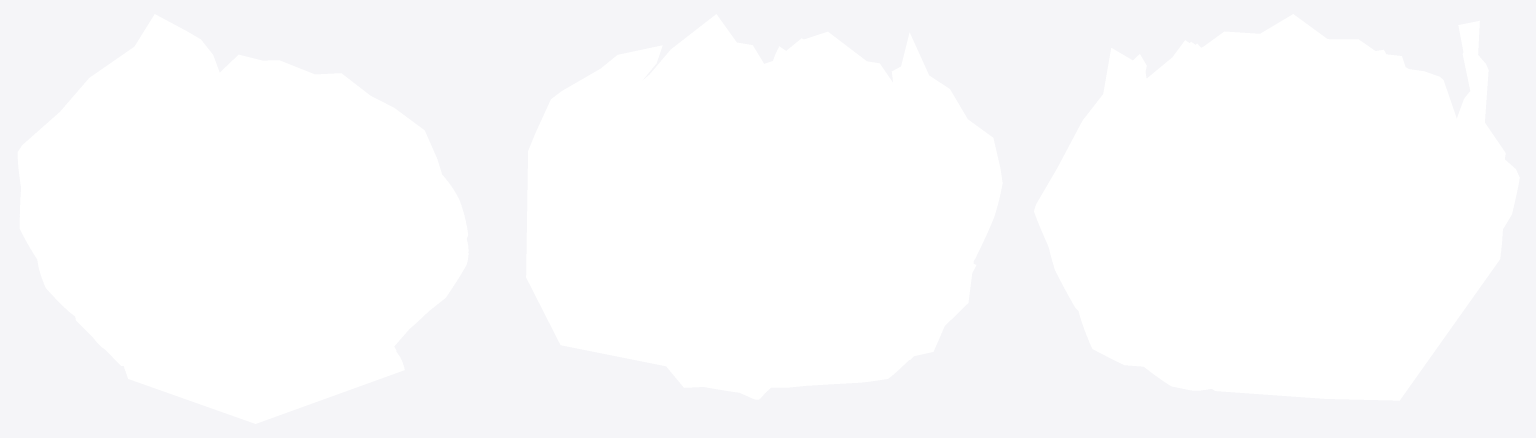
The picture shows the model from 3 angles, left to right: view 1: azimuth 30°, elevation 25°; view 2: azimuth 150°, elevation 25°; view 3: azimuth 270°, elevation 25°; orthographic projection. The views are drawn at different scales.
Parts seen in each view (by area): view 1: SM_Cabbage_01v3_LOD0; view 2: SM_Cabbage_01v3_LOD0; view 3: SM_Cabbage_01v3_LOD0.
Boxes of the visible parts, x1=… form: SM_Cabbage_01v3_LOD0: x1=17, y1=14, x2=468, y2=423; SM_Cabbage_01v3_LOD0: x1=526, y1=14, x2=1002, y2=399; SM_Cabbage_01v3_LOD0: x1=1034, y1=14, x2=1519, y2=400.
Size of the model in its own units: 0.3611 by 0.2842 by 0.3493.
1 material, 1 textured.
